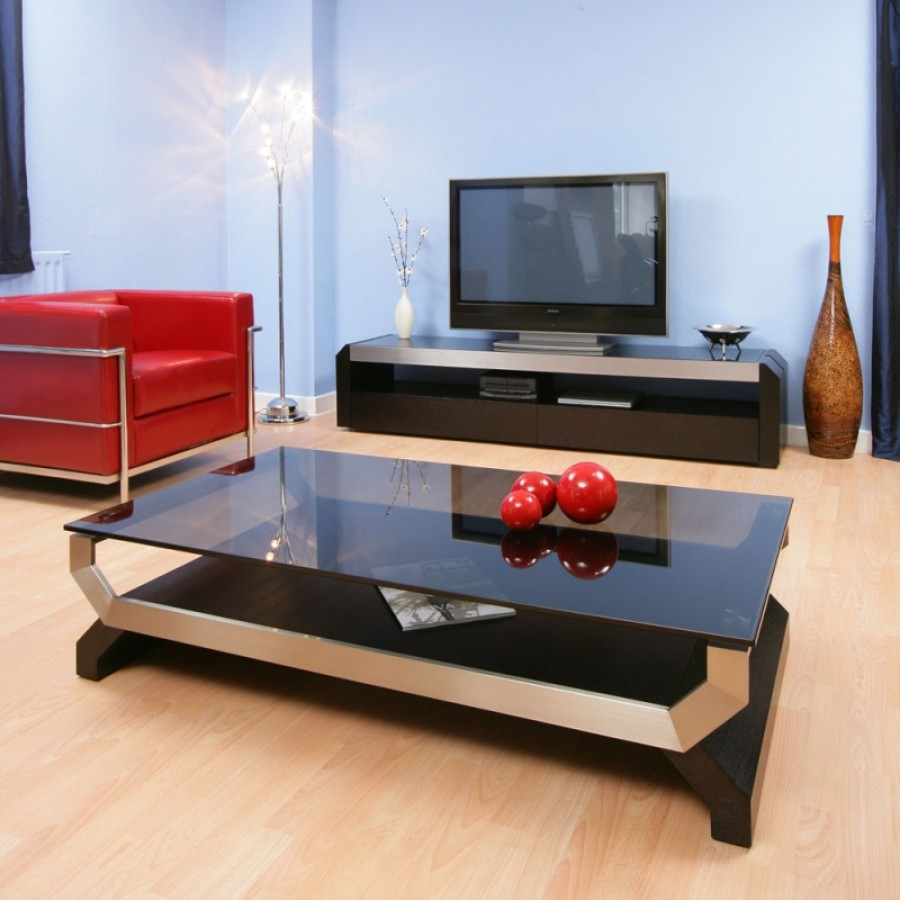cabinet: (331, 322, 812, 472)
sofa: (1, 278, 264, 497)
table: (59, 433, 811, 866)
tv: (440, 159, 678, 364)
